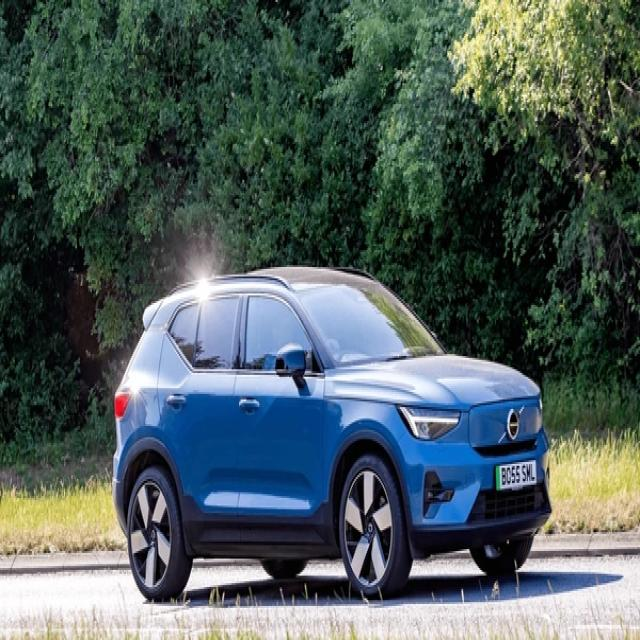volvo: (507, 405, 524, 440), (410, 638, 422, 640)
